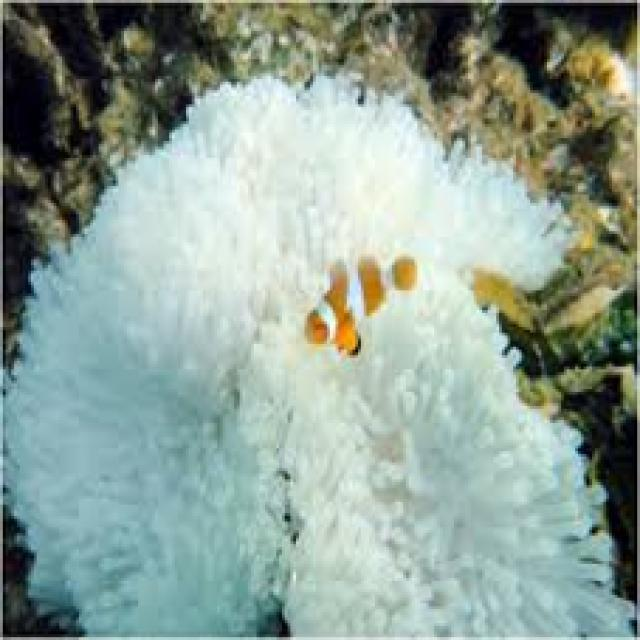Bleached: (1, 367, 271, 640), (135, 166, 303, 552), (286, 517, 640, 640), (288, 398, 601, 530), (296, 158, 574, 273), (15, 171, 154, 375), (139, 79, 427, 176), (367, 291, 520, 415), (294, 357, 377, 412)
